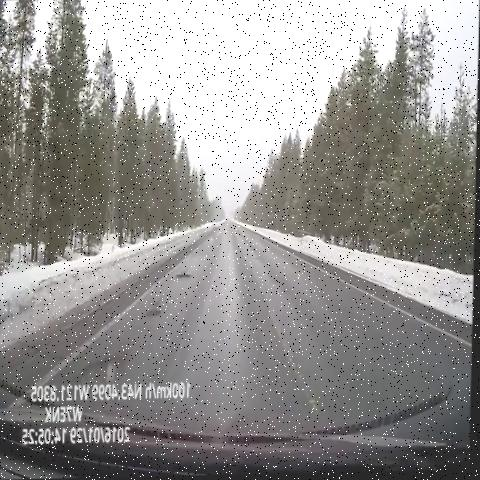pothole: (72, 335, 135, 400), (145, 299, 174, 326), (170, 263, 199, 287)
